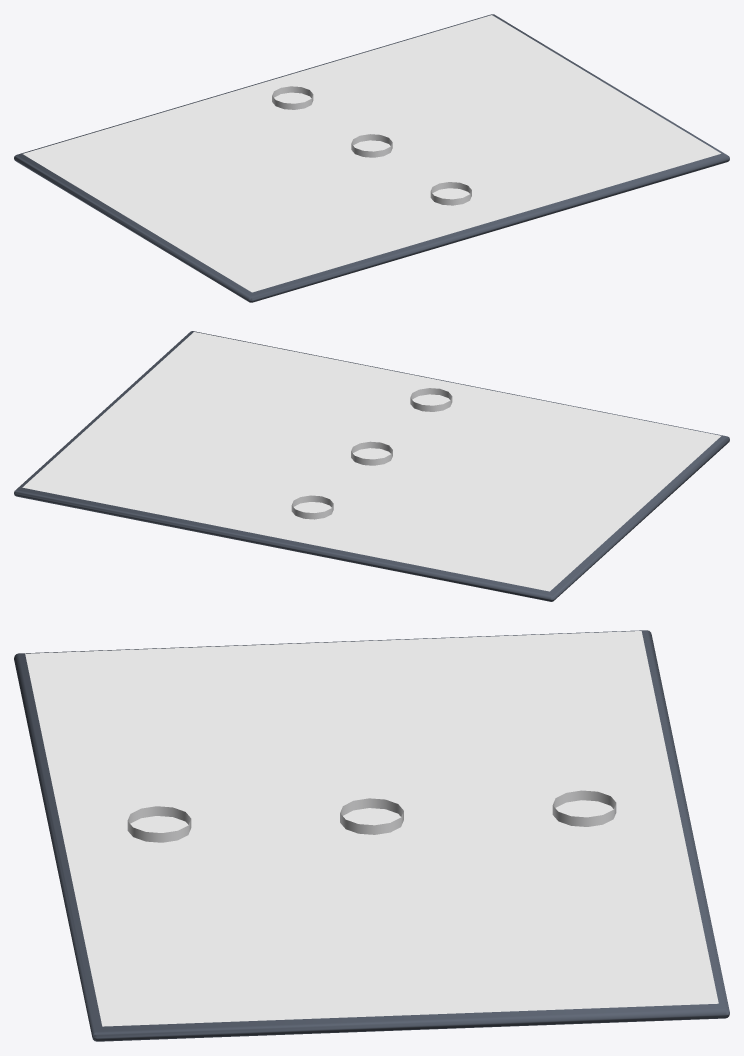
File: SystemRoom_DevLog.fbx
3 views of the same model, one above another, from view 1: azimuth 30°, elevation 25°; view 2: azimuth 150°, elevation 25°; view 3: azimuth 270°, elevation 25° (orthographic). The views are drawn at different scales.
Parts seen in each view (by area): view 1: SystemRoom_DevLog; view 2: SystemRoom_DevLog; view 3: SystemRoom_DevLog.
Part boxes in pixels (x1=…): SystemRoom_DevLog: x1=14, y1=14, x2=729, y2=302; SystemRoom_DevLog: x1=14, y1=331, x2=729, y2=601; SystemRoom_DevLog: x1=14, y1=630, x2=729, y2=1041.
Size of the model in its own units: 0.3593 by 0.012 by 0.2684.
